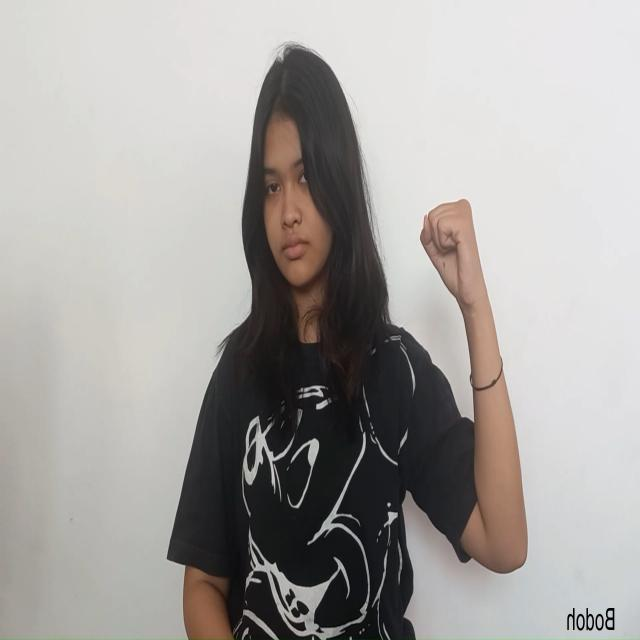Bodoh -BISINDO-: (418, 196, 484, 317)
